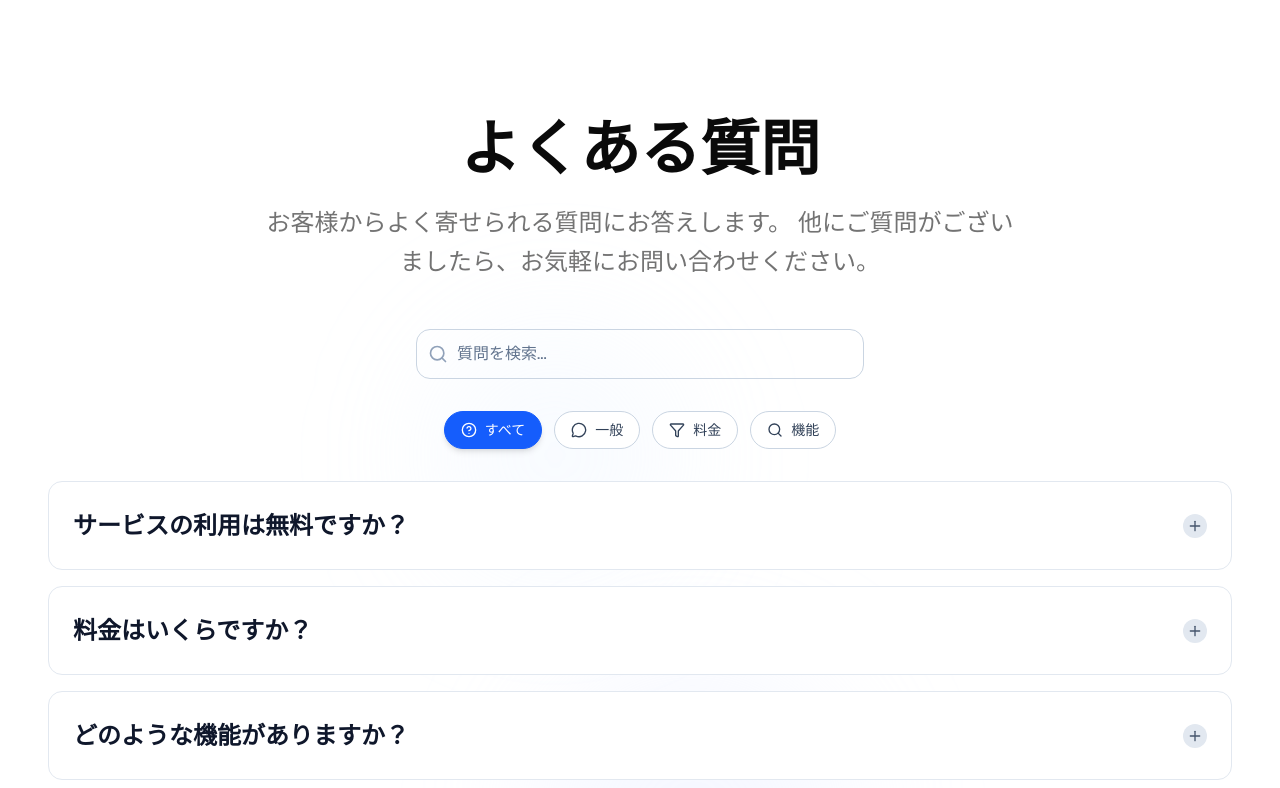
Test: FAQSection › カテゴリ変更時に開いているアイテムが閉じる
This screenshot has width=1280, height=788.
 まず質問を開く
Step 1. Click the button "サービスの利用は無料ですか？" → [241, 526], box [49, 482, 1231, 569]
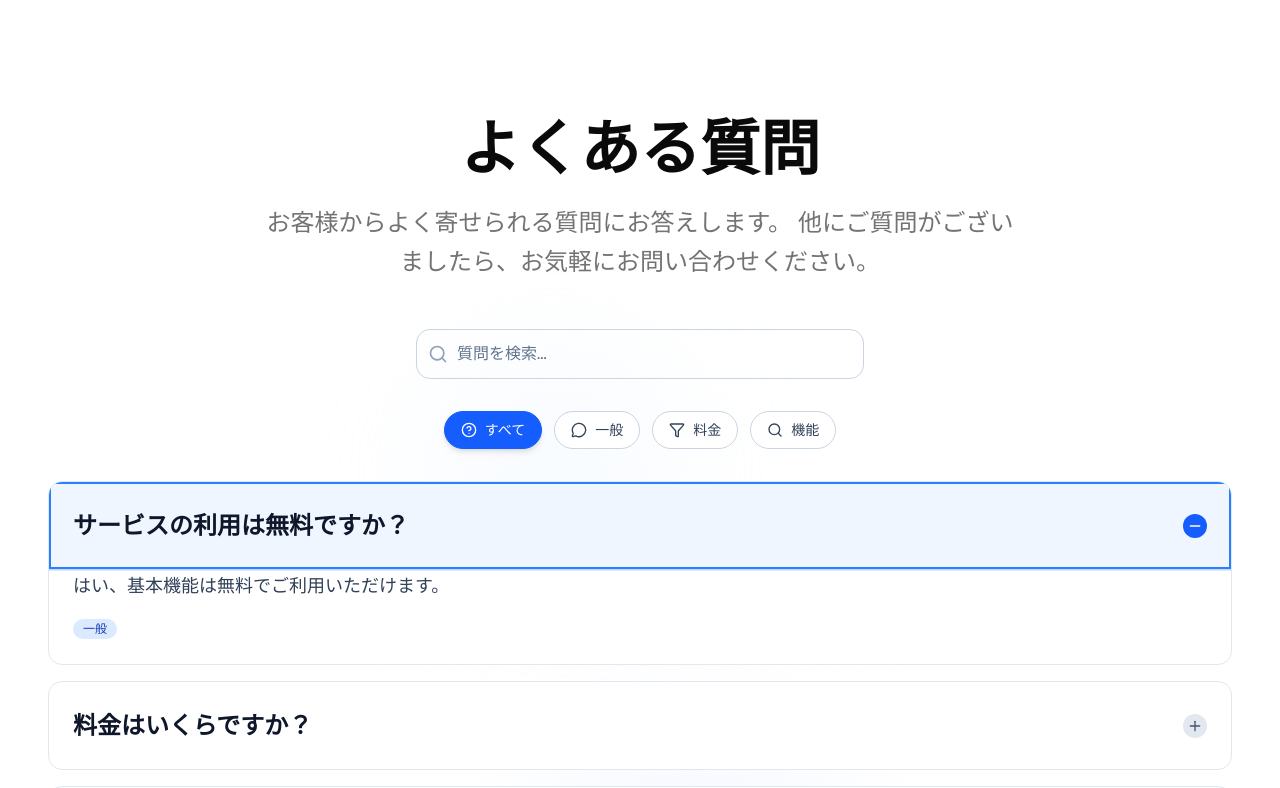
Expected: the text "はい、基本機能は無料でご利用いただけます。" is shown, [73, 574, 449, 597]
 カテゴリを変更
Step 2. Click the button with test id "category-filter-pricing" → [695, 430], box [652, 411, 738, 449]
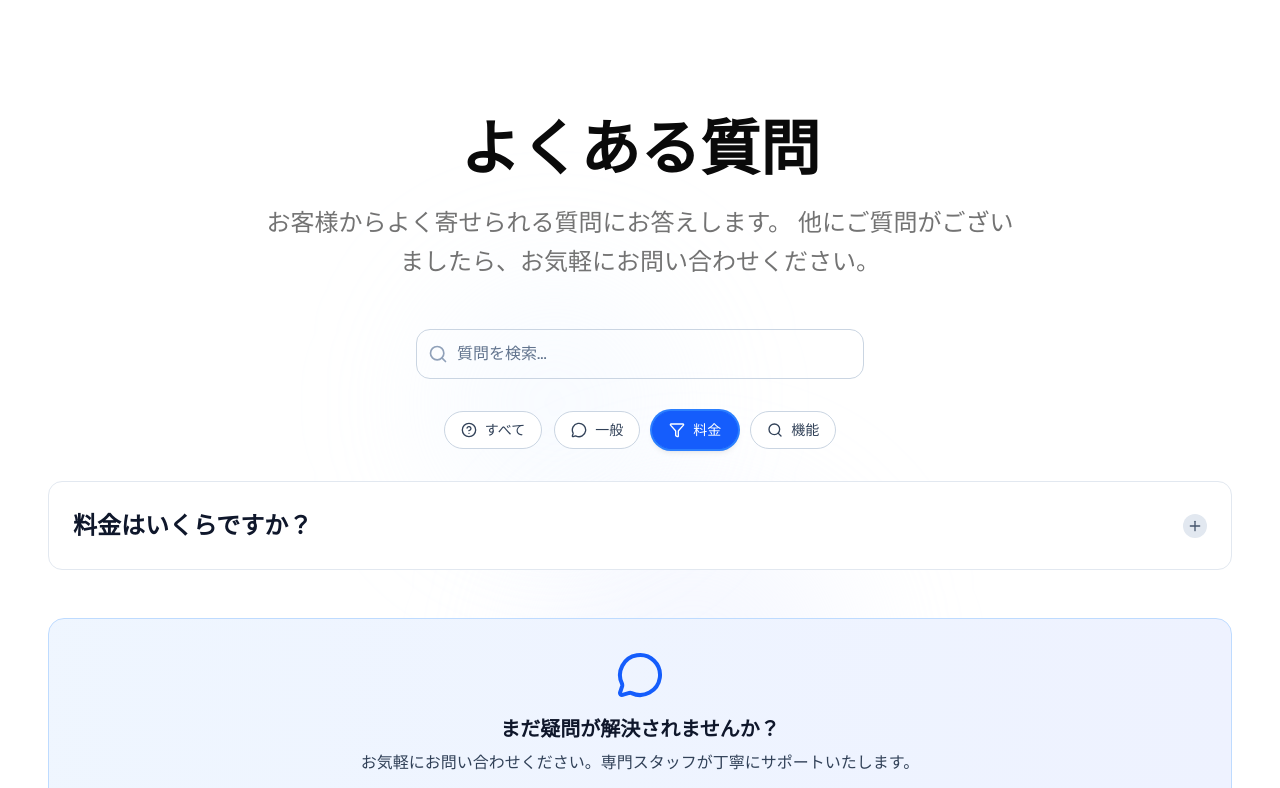
Expected: the text "はい、基本機能は無料でご利用いただけます。" is gone
